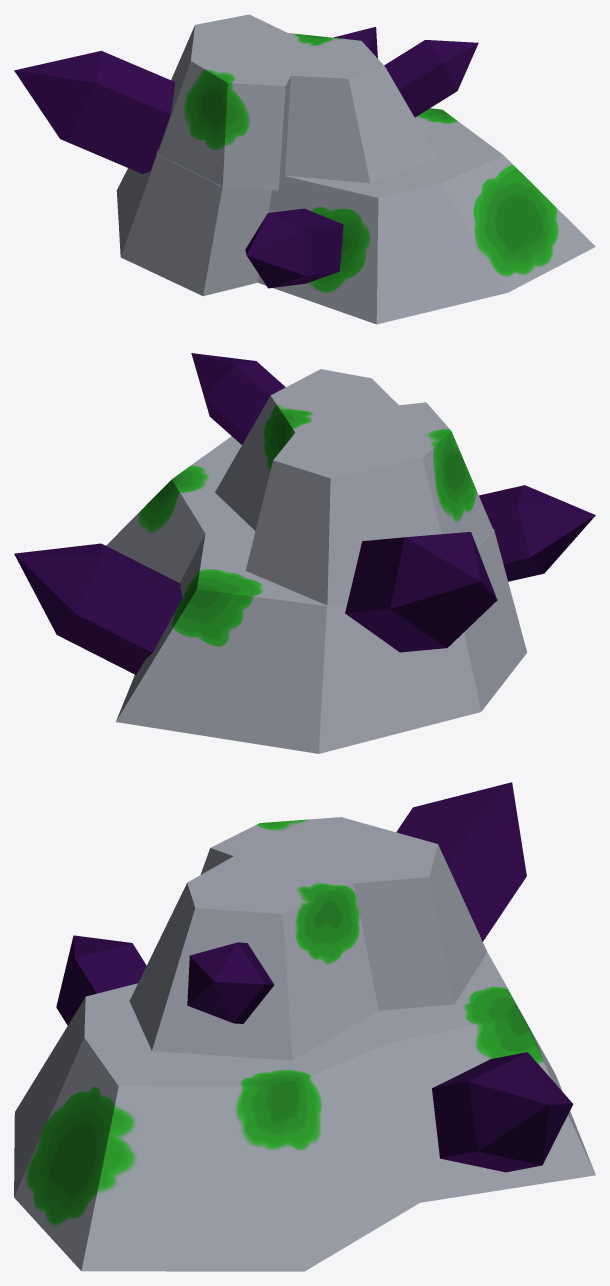
The model's file is ObsidianaMusgo1.fbx.
3 renders of one model, top to bottom at view 1: azimuth 30°, elevation 25°; view 2: azimuth 150°, elevation 25°; view 3: azimuth 270°, elevation 25°, orthographic. The views are drawn at different scales.
Visible parts, largest first — view 1: base.039, obsidiana.020, obsidiana.019, obsidiana.022, obsidiana.021; view 2: base.039, obsidiana.020, obsidiana.021, obsidiana.019, obsidiana.022; view 3: base.039, obsidiana.021, obsidiana.020, obsidiana.022, obsidiana.019.
Boxes of the visible parts, x1=… form: base.039: x1=116, y1=14, x2=595, y2=324; obsidiana.020: x1=14, y1=50, x2=175, y2=173; obsidiana.019: x1=245, y1=208, x2=343, y2=288; obsidiana.022: x1=384, y1=40, x2=478, y2=117; obsidiana.021: x1=333, y1=27, x2=377, y2=58; base.039: x1=106, y1=369, x2=526, y2=753; obsidiana.020: x1=345, y1=532, x2=497, y2=652; obsidiana.021: x1=14, y1=543, x2=182, y2=674; obsidiana.019: x1=479, y1=485, x2=595, y2=581; obsidiana.022: x1=191, y1=353, x2=285, y2=444; base.039: x1=14, y1=817, x2=595, y2=1271; obsidiana.021: x1=432, y1=1052, x2=573, y2=1172; obsidiana.020: x1=396, y1=782, x2=526, y2=941; obsidiana.022: x1=187, y1=942, x2=274, y2=1023; obsidiana.019: x1=56, y1=935, x2=146, y2=1025.
Size of the model in its own units: 152 by 65.85 by 136.
